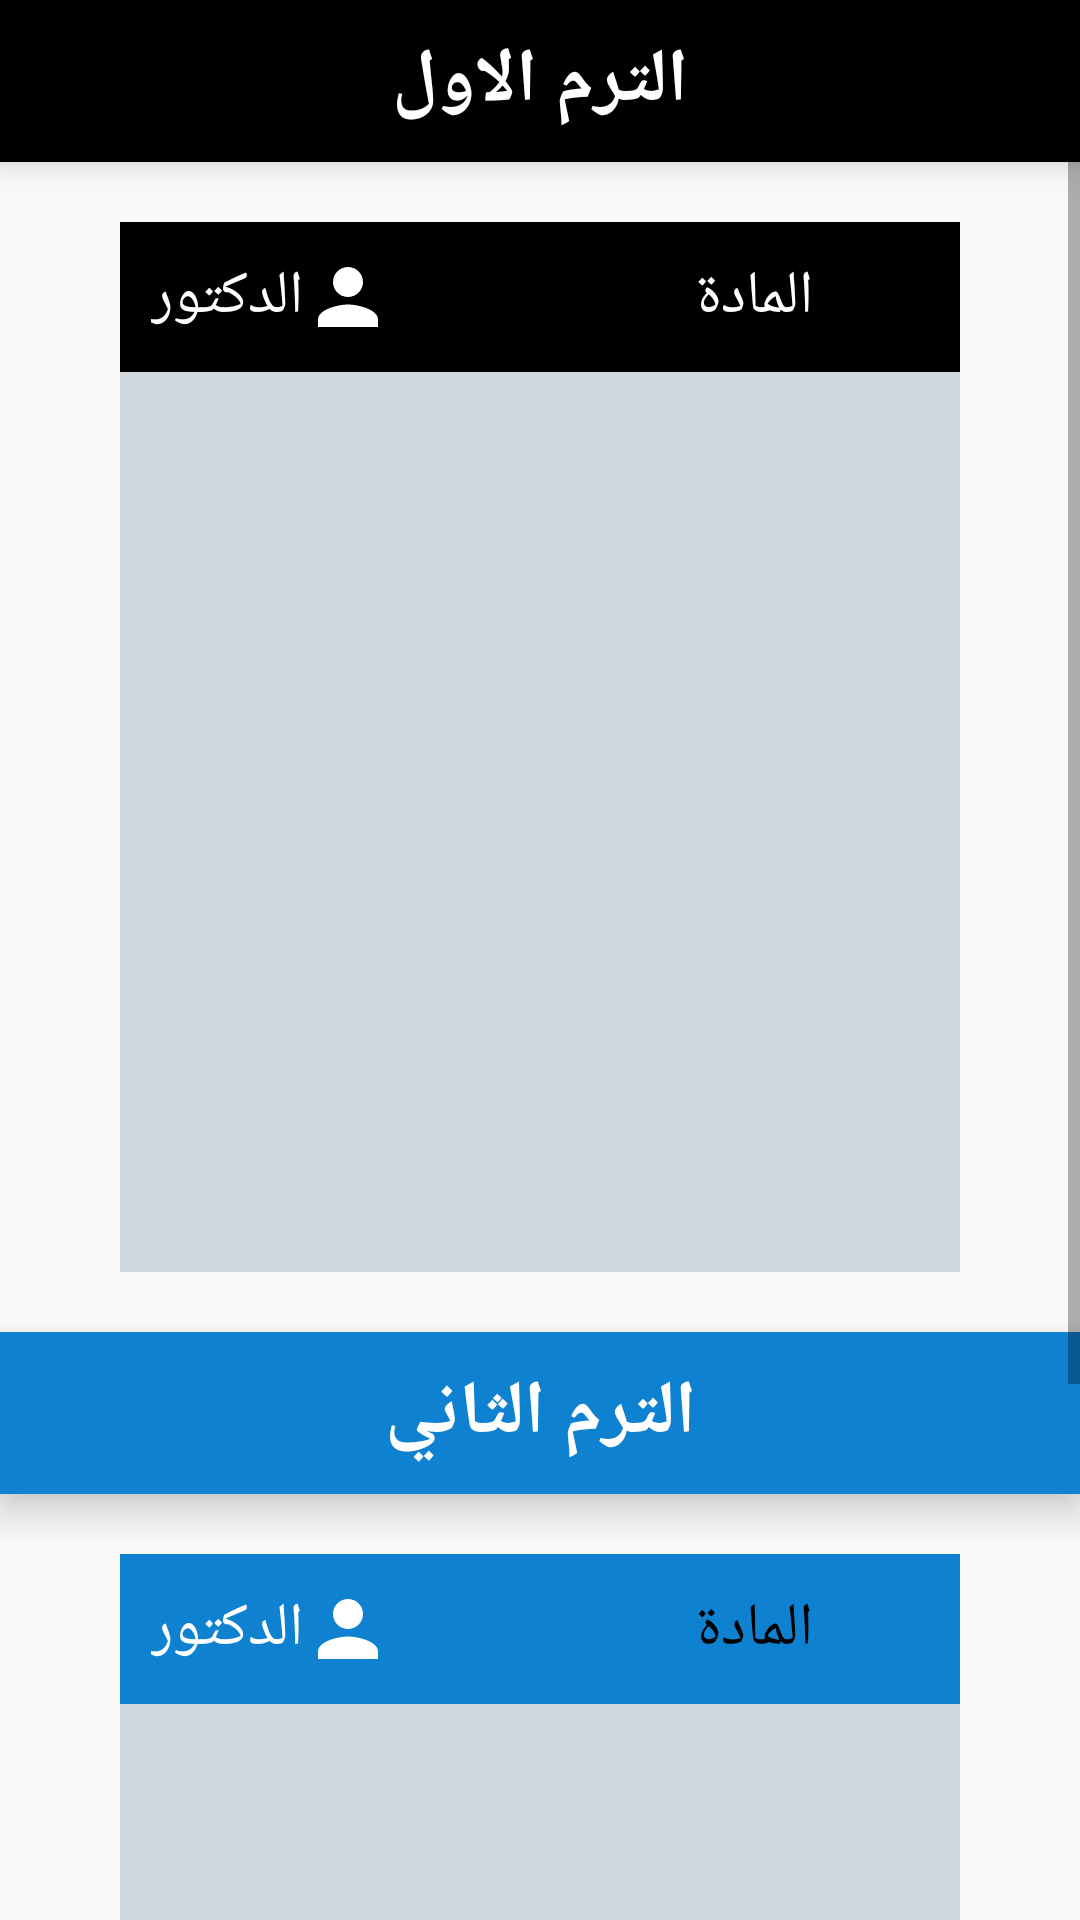

Icons on this 1080w x 1920h Android screen, each with its box as (x1, y1, x2, y2):
person: (318, 267, 378, 327), (318, 1599, 378, 1659)
